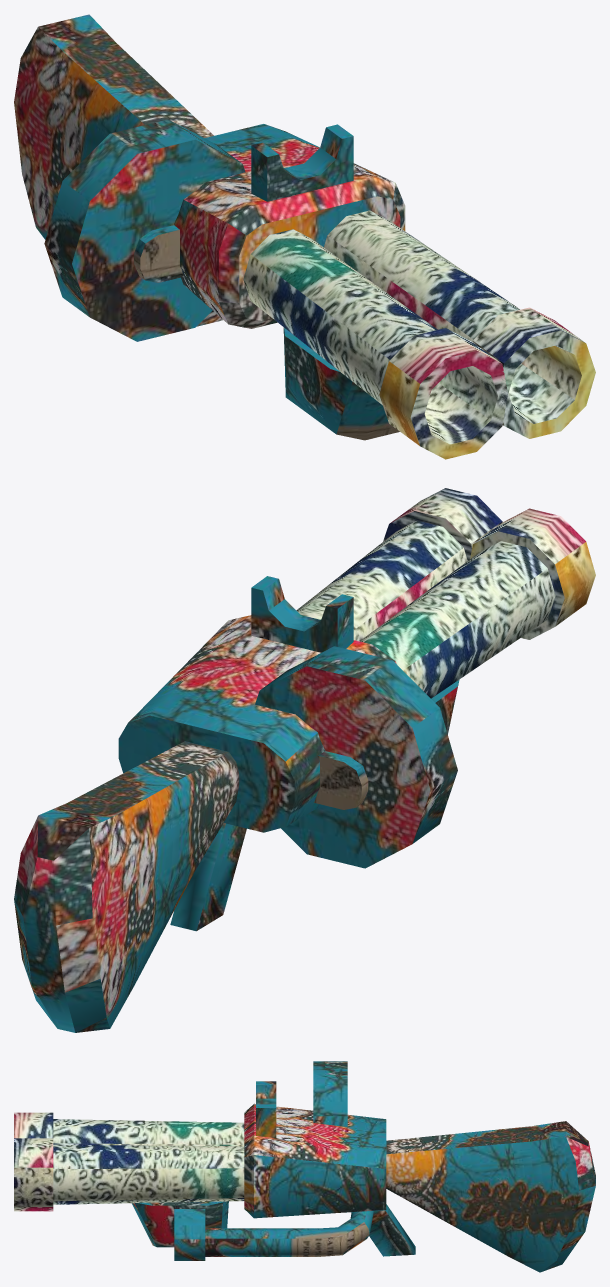
The model's file is Shotgun batik.fbx.
3 renders of one model, top to bottom at view 1: azimuth 30°, elevation 25°; view 2: azimuth 150°, elevation 25°; view 3: azimuth 270°, elevation 25°, orthographic. The views are drawn at different scales.
Visible parts, largest first — view 1: Shotgun_body, Shotgun_barrel; view 2: Shotgun_body, Shotgun_barrel; view 3: Shotgun_body, Shotgun_barrel.
Part boxes in pixels (x1,y1,x2,y2): Shotgun_body: (14,14,405,440); Shotgun_barrel: (243,210,595,459); Shotgun_body: (14,576,459,1032); Shotgun_barrel: (296,488,595,698); Shotgun_body: (132,1061,595,1272); Shotgun_barrel: (14,1112,244,1211).
Size of the model in its own units: 17.76 by 14.86 by 46.07.
2 materials, 2 textured.
